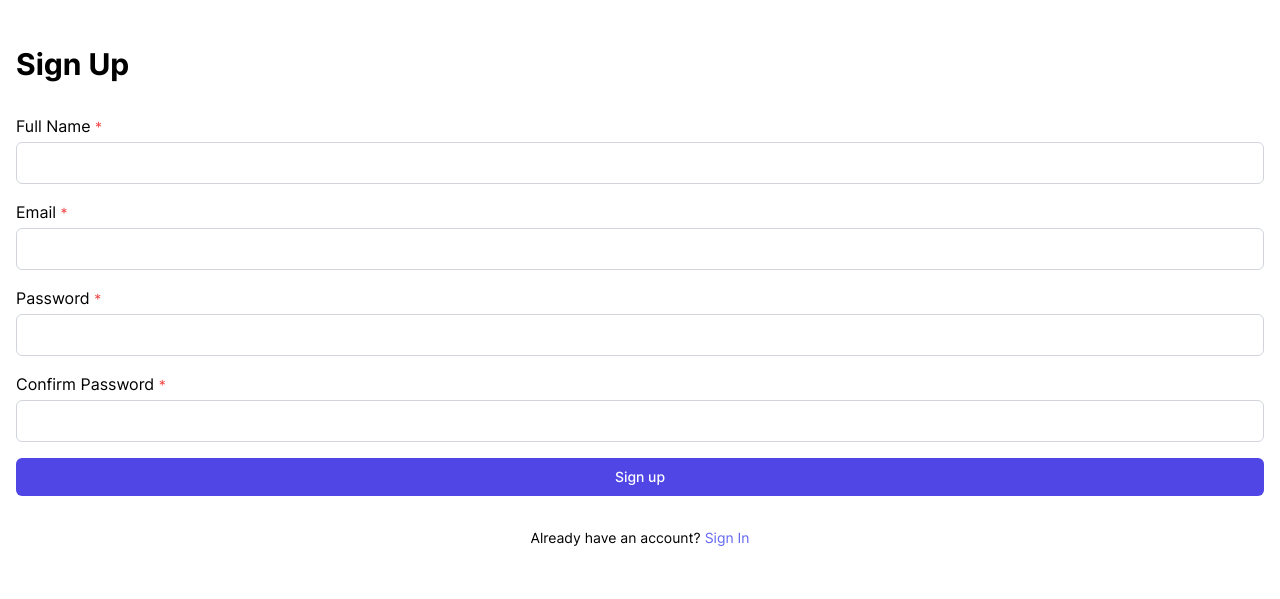
Test case: should render form errors
Click the button "Sign up".
click(640, 477)  # box x1=16 y1=458 x2=1264 y2=496
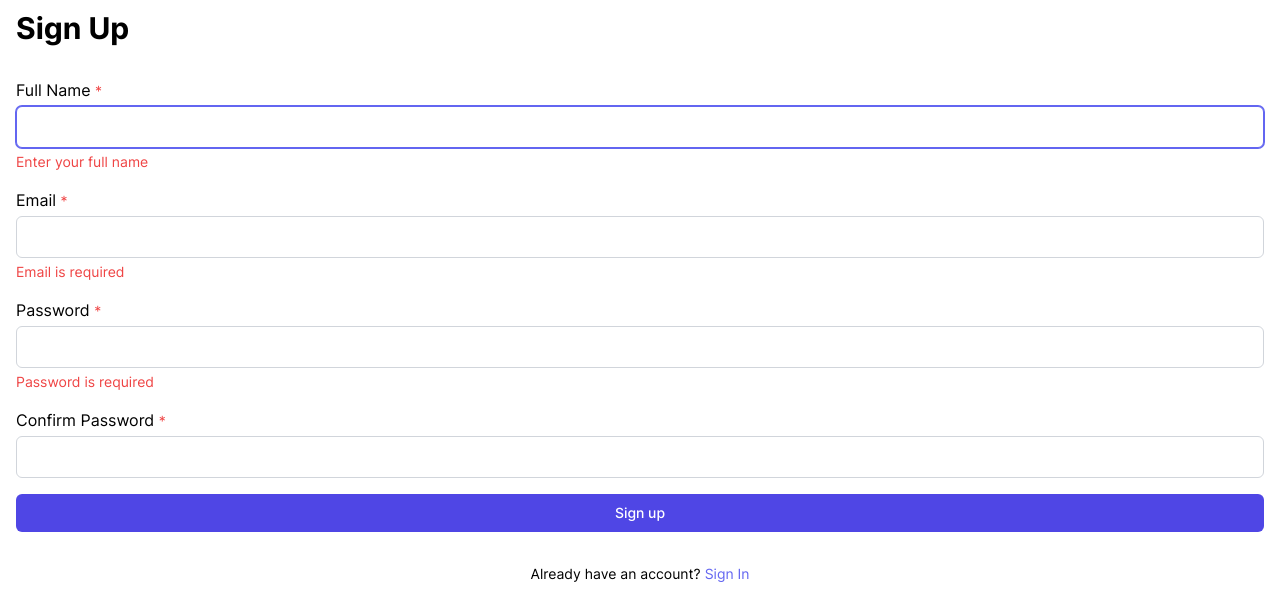
Expected: the text "Enter your full name" is shown, x1=16 y1=153 x2=148 y2=170
Expected: the text "Email is required" is shown, x1=16 y1=263 x2=124 y2=280
Expected: the text "Password is required" is shown, x1=16 y1=373 x2=154 y2=390
